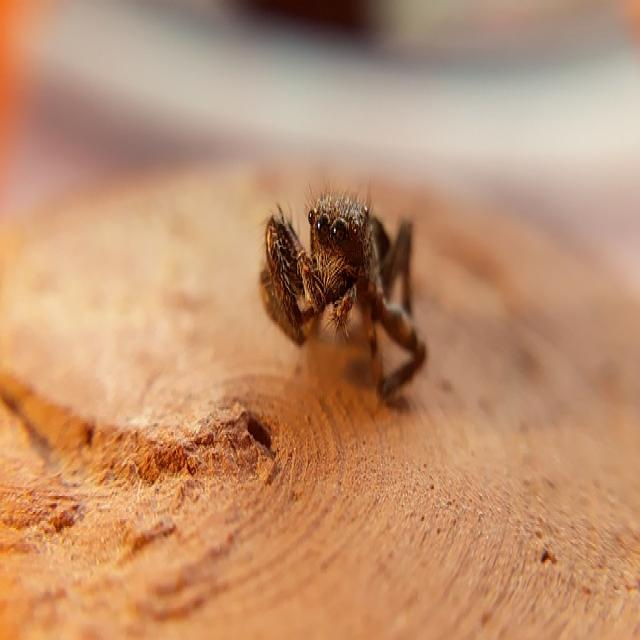spyder: (260, 193, 426, 398)
